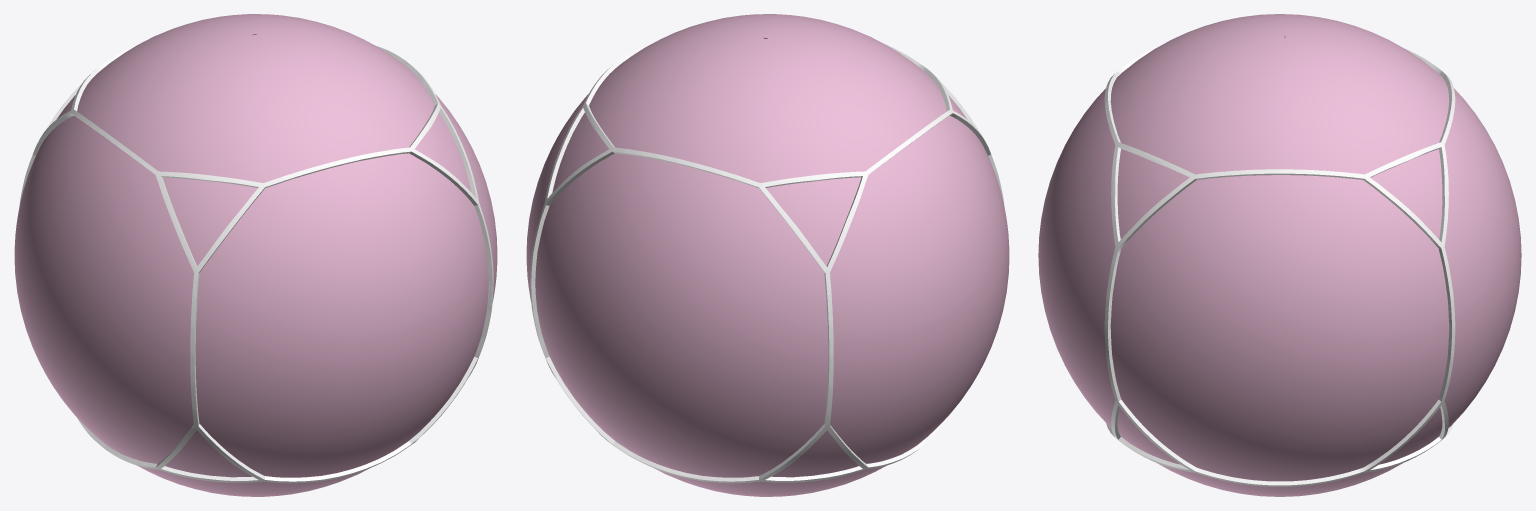
The model's file is Plasma Ball.fbx.
3 renders of one model, left to right at view 1: azimuth 30°, elevation 25°; view 2: azimuth 150°, elevation 25°; view 3: azimuth 270°, elevation 25°, orthographic.
Visible parts, largest first — view 1: Glass, Ornaments.001; view 2: Glass, Ornaments.001; view 3: Glass, Ornaments.001.
Boxes of the visible parts, x1,y1,x2,y2 form: Glass: [14, 14, 497, 496]; Ornaments.001: [19, 44, 493, 483]; Glass: [526, 14, 1009, 496]; Ornaments.001: [530, 44, 1004, 483]; Glass: [1038, 14, 1521, 496]; Ornaments.001: [1104, 49, 1455, 486].
Size of the model in its own units: 203 by 203 by 203.
